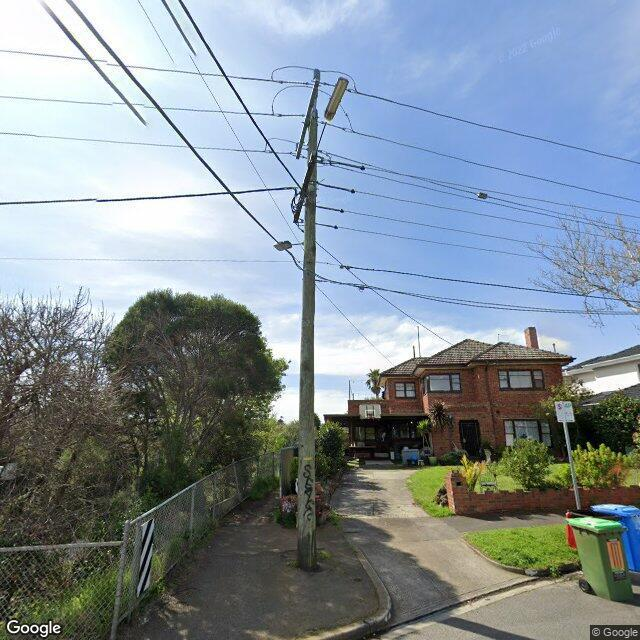HV-transmission: (268, 59, 356, 160)
crossarm: (293, 156, 366, 230), (296, 80, 319, 160)
streetlight: (312, 76, 350, 165)
timber-pole: (295, 68, 321, 574)
